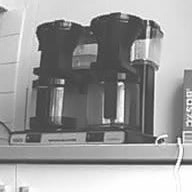empty coffee: (83, 70, 144, 132)
not empty coffee: (28, 75, 80, 134)
